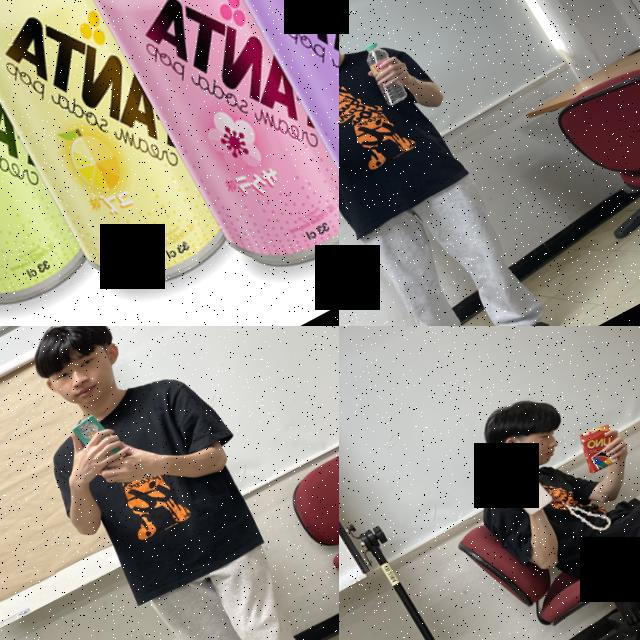bottle: (358, 38, 410, 108)
can: (38, 0, 339, 309), (0, 0, 250, 310), (191, 0, 339, 272), (0, 0, 120, 326)
